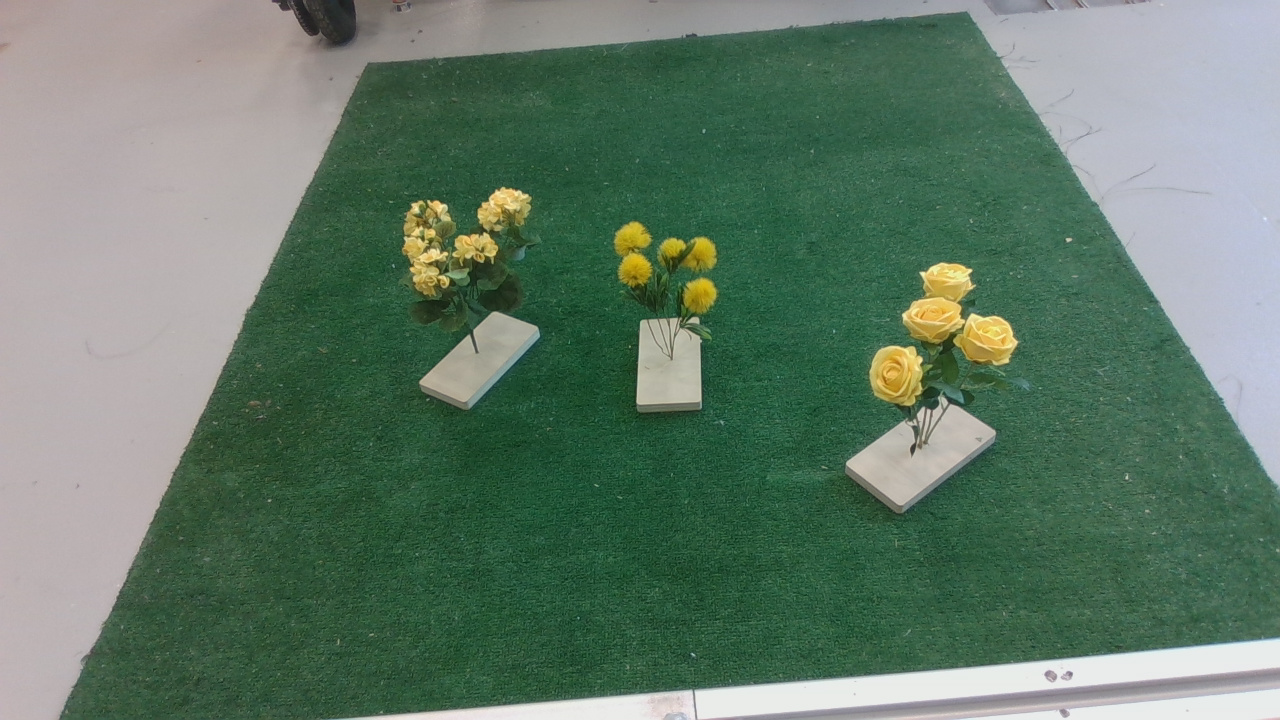dandelion: (605, 221, 729, 354)
geranium: (390, 189, 545, 344)
rose: (868, 256, 1040, 427)
